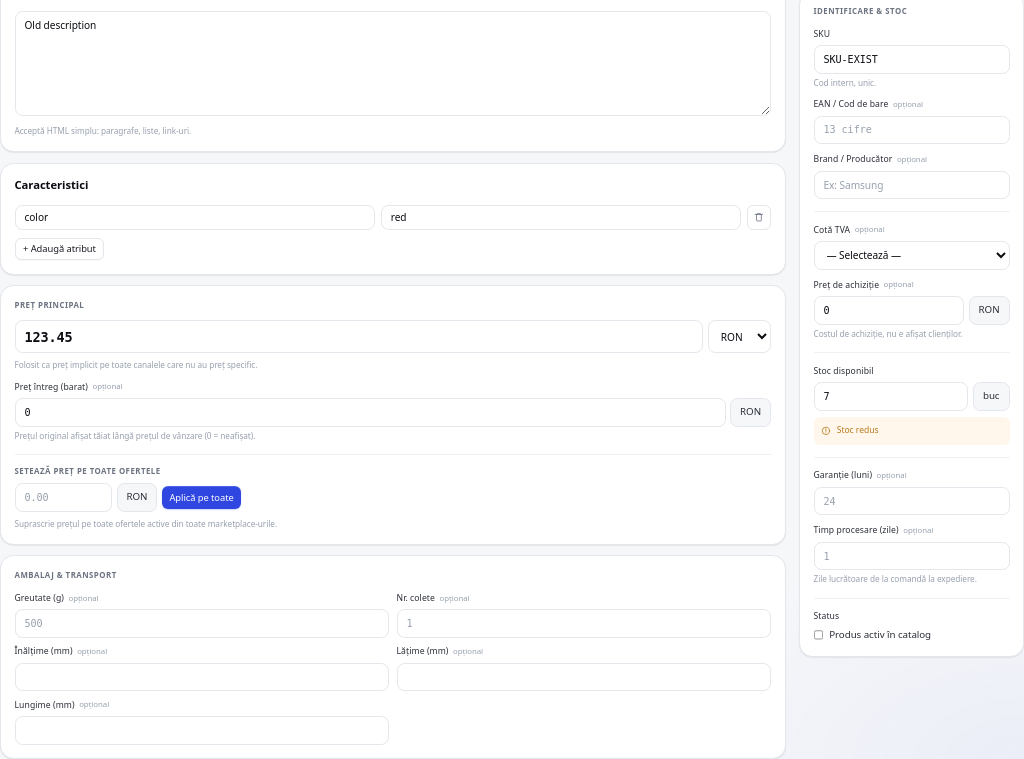
Test: SetAllOffersPrice control › shows error message when POST fails
(page scrolled)
In the number field named "Preț pentru toate ofertele": coordinates (63, 498) x1=14 y1=483 x2=112 y2=512, type "50"
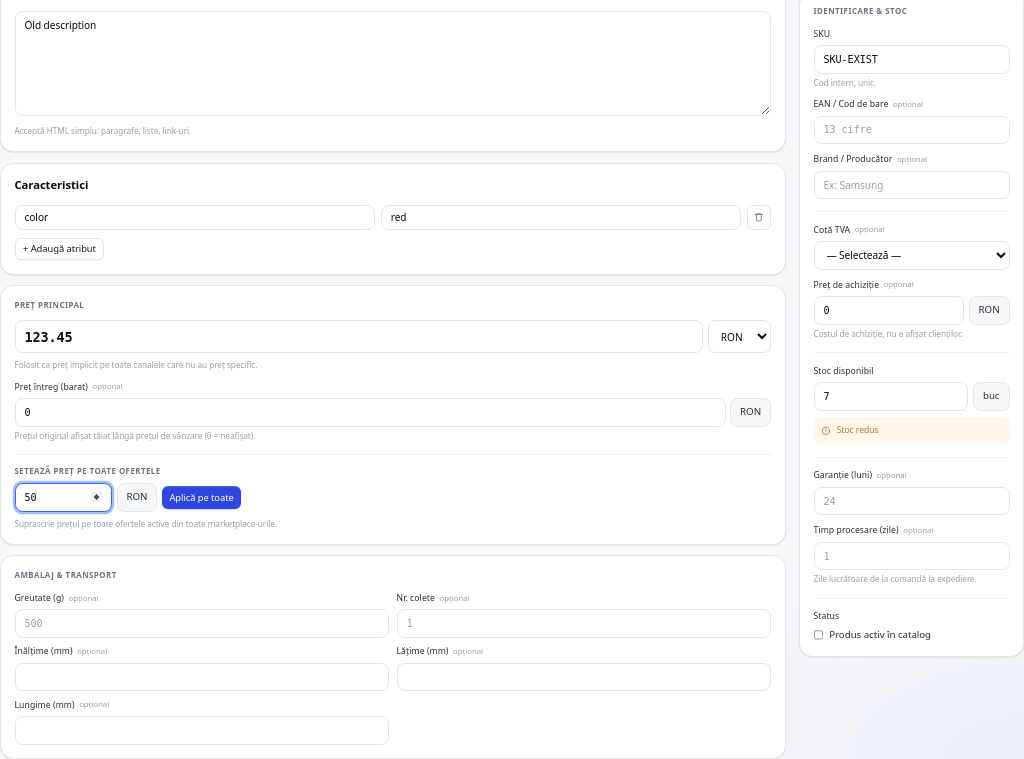
Click the button "Aplică pe toate": coordinates (202, 498) x1=162 y1=486 x2=241 y2=509
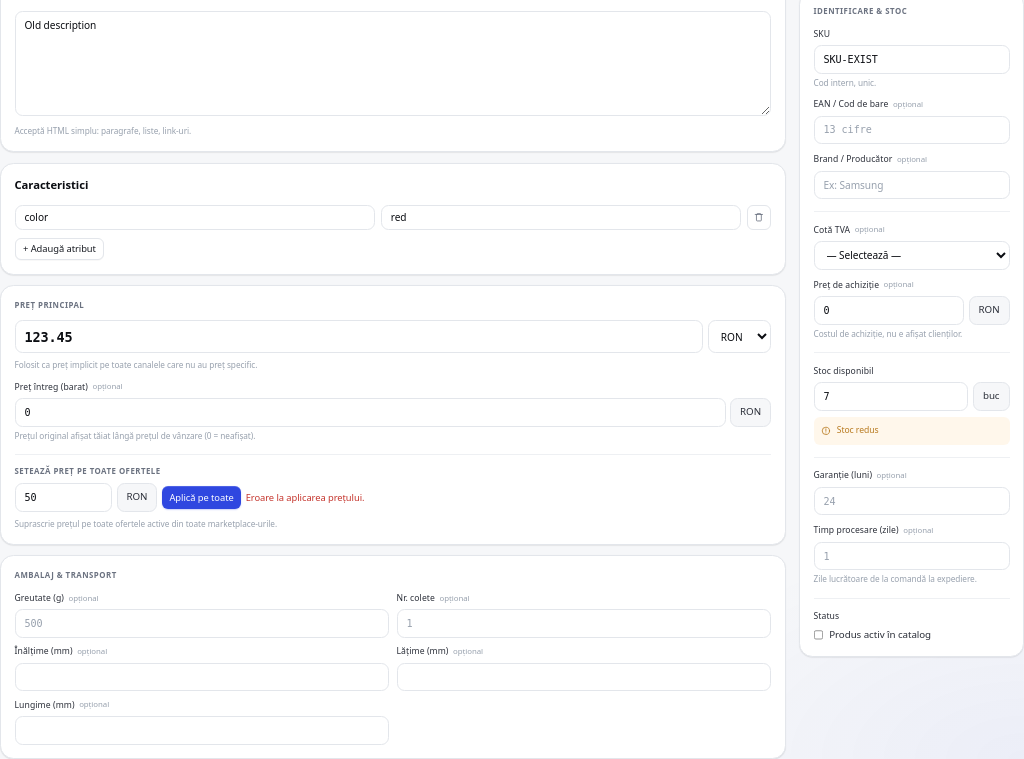
Now the text "Eroare la aplicarea prețului." is shown, box x1=246 y1=490 x2=364 y2=505
